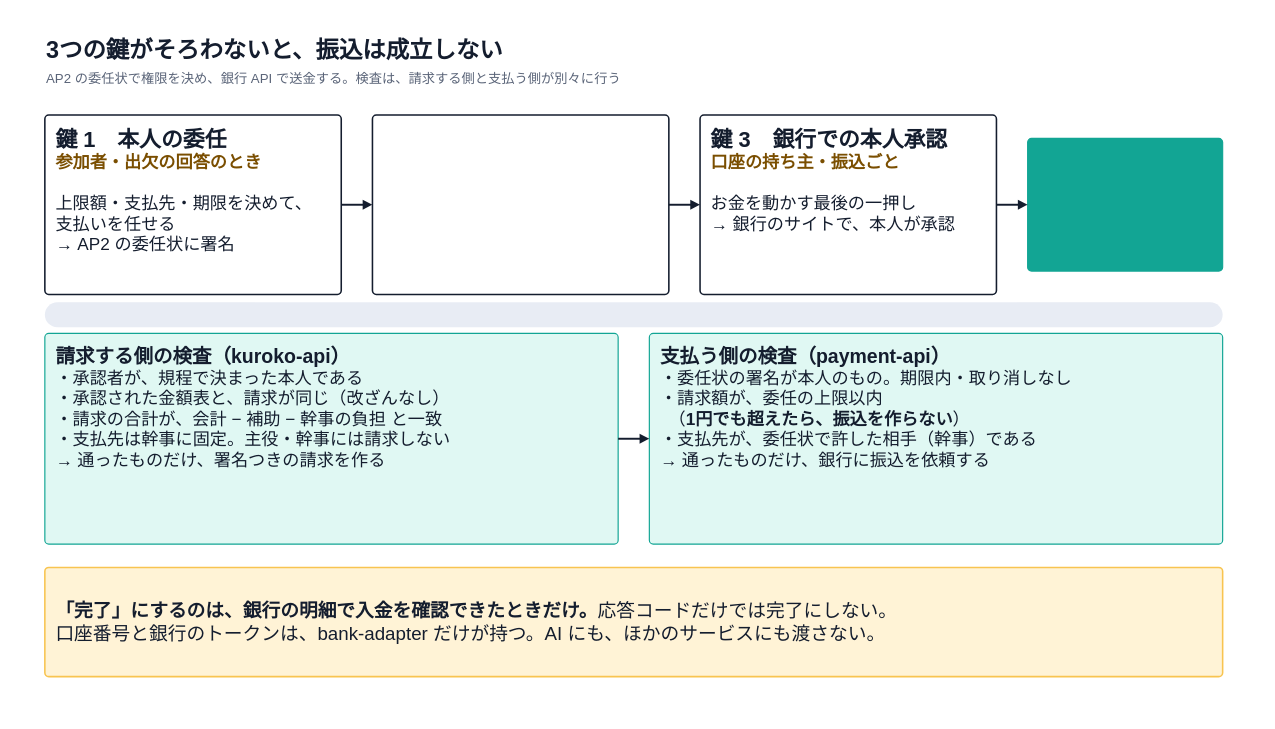
The diagram is 1275 pixels wide and 729 high, and some of its shapes have lost their labels. The box of each missing label's shape, as (x1, y1, x2, y2) in pixels:
Policy Gate：互いを信用せず、別々のサービスで、もう一度検査する（請求は、署名つきで渡す）: (44, 302, 1222, 327)
振込が成立 3つそろったときだけ: (1027, 138, 1223, 271)
鍵 2 按分の承認 承認者（規程で1名）・開催のあと 誰がいくら払うかを確定する → 金額表のハッシュ値つきで承認: (371, 114, 669, 295)
